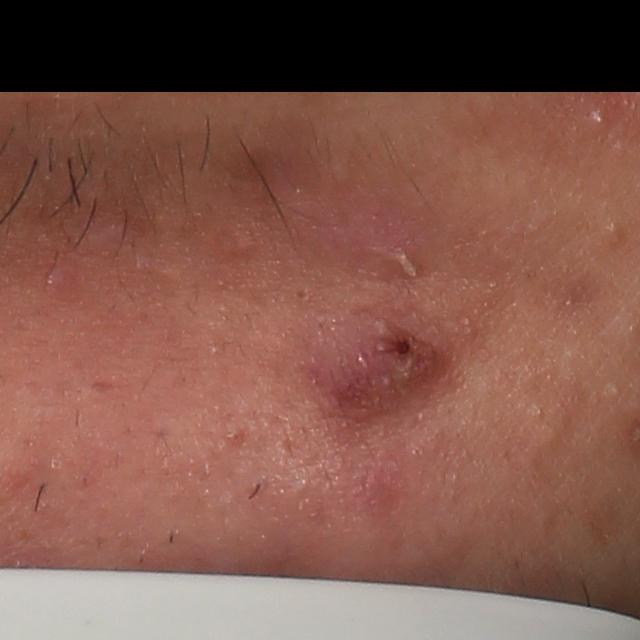atrophic_scar: (86, 378, 126, 394)
comedo: (601, 223, 626, 249), (589, 109, 607, 131), (603, 382, 623, 401)
nodule: (286, 305, 464, 431)
